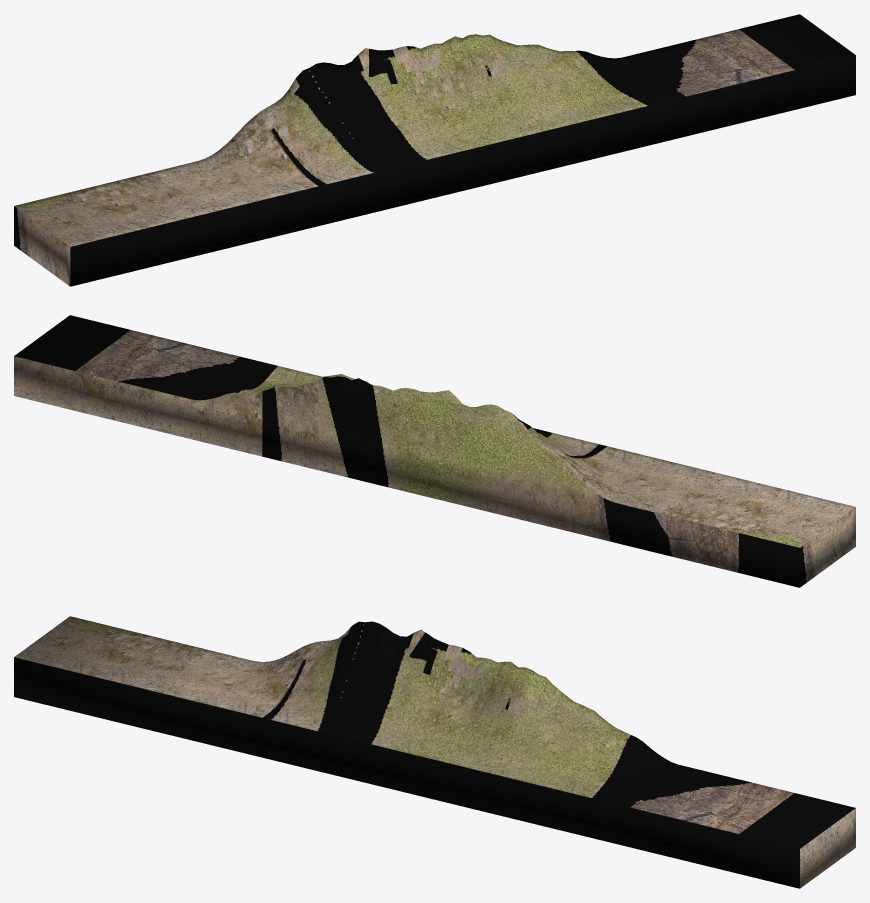
The model's file is Welt_xna_rotiert.fbx.
The picture shows the model from 3 angles, top to bottom: view 1: azimuth 30°, elevation 25°; view 2: azimuth 150°, elevation 25°; view 3: azimuth 330°, elevation 25°; orthographic projection.
Parts seen in each view (by area): view 1: Landscape; view 2: Landscape; view 3: Landscape.
Part boxes in pixels (box(x1,y1,x2,y2)): Landscape: box(14, 14, 855, 286); Landscape: box(14, 315, 855, 587); Landscape: box(14, 616, 855, 888).
Bounding box in the file's own units: 28.86 × 3.93 × 3.58.
1 material, 1 textured.
